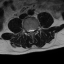CCS_stenosis: (30, 26, 32, 35)
LFS_normal: (34, 26, 36, 32)
LLS_normal: (32, 26, 34, 34)
RFS_normal: (26, 27, 28, 33)
RLS_normal: (28, 27, 30, 34)
